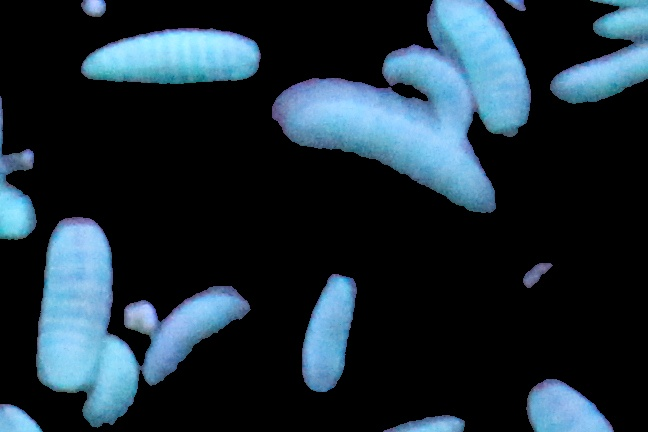larvae: (272, 75, 495, 212), (426, 1, 530, 132), (46, 224, 106, 392), (154, 288, 250, 392), (78, 28, 270, 76), (393, 41, 480, 131), (550, 37, 648, 110), (521, 372, 619, 432), (306, 280, 350, 408), (86, 339, 143, 420)
